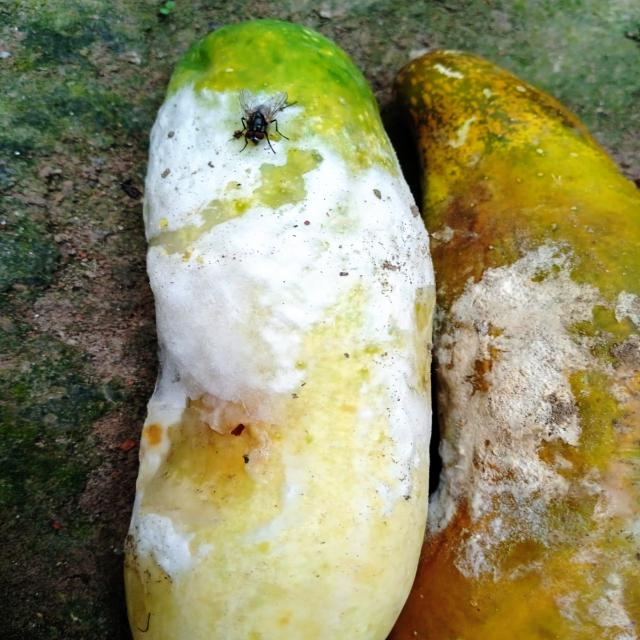Pythium-Fruit-Rot: (122, 43, 435, 590), (426, 34, 640, 638)
